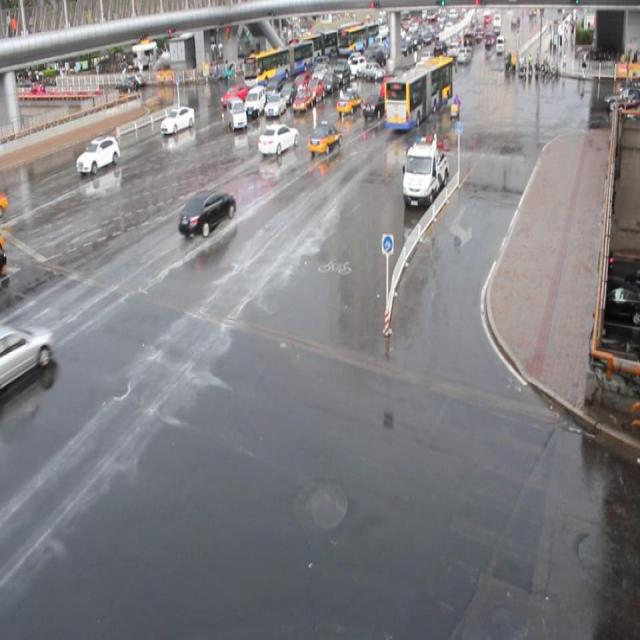bus: (402, 138, 449, 207)
car: (1, 322, 53, 386), (177, 188, 236, 238), (76, 136, 120, 173), (257, 122, 299, 155), (306, 120, 342, 153), (160, 105, 194, 134), (335, 88, 363, 114), (361, 93, 387, 119), (220, 82, 248, 106), (291, 88, 313, 115), (381, 86, 402, 114), (265, 92, 287, 118), (266, 74, 288, 98), (378, 75, 398, 100), (304, 78, 324, 102), (279, 81, 298, 104), (291, 73, 311, 94)
truck: (226, 95, 246, 131), (245, 86, 268, 117)
van: (382, 55, 452, 129)
